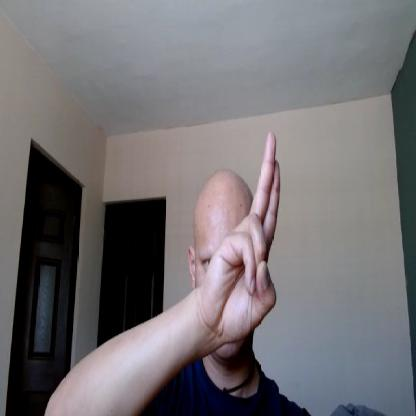U: (207, 132, 281, 341)
